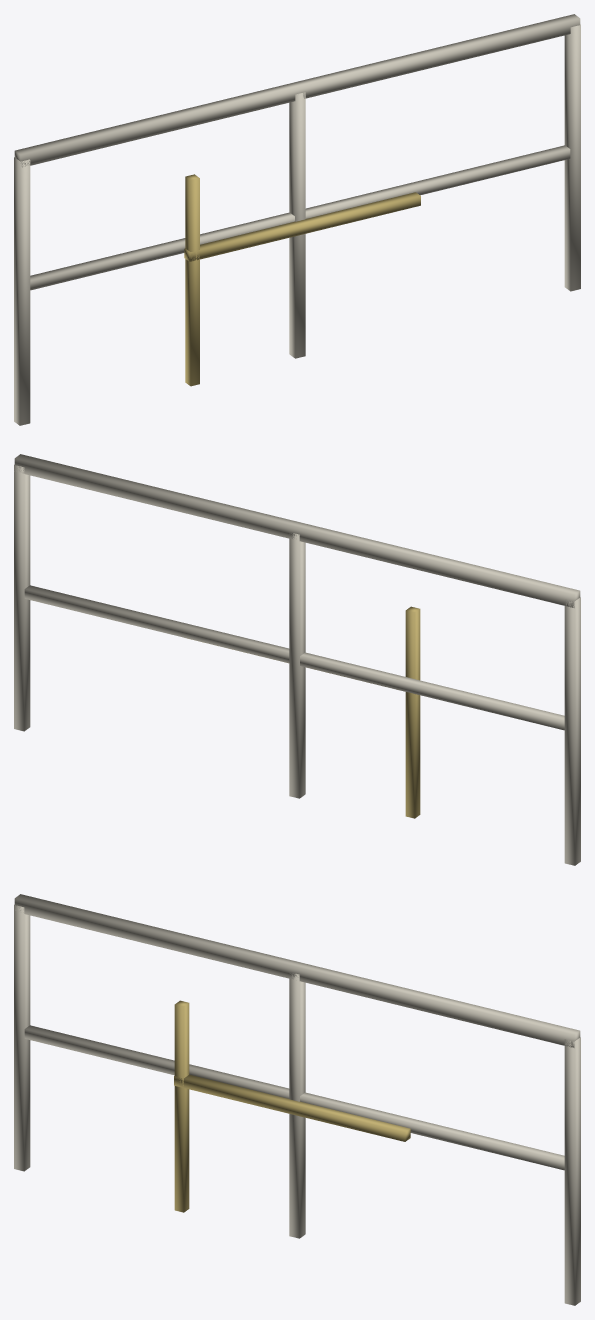
Rendered from civic_gate_l240_h110.glb.
The picture shows the model from 3 angles, top to bottom: view 1: azimuth 30°, elevation 25°; view 2: azimuth 150°, elevation 25°; view 3: azimuth 330°, elevation 25°; orthographic projection.
Parts seen in each view (by area): view 1: world; view 2: world; view 3: world.
Boxes of the visible parts, <box> form: world: <box>14,14,580,425</box>; world: <box>14,454,580,865</box>; world: <box>14,894,580,1305</box>.
Bounding box in the file's own units: 2.44 × 1.13 × 0.0825.
